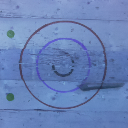Axe Tip: (76, 85, 88, 87)
